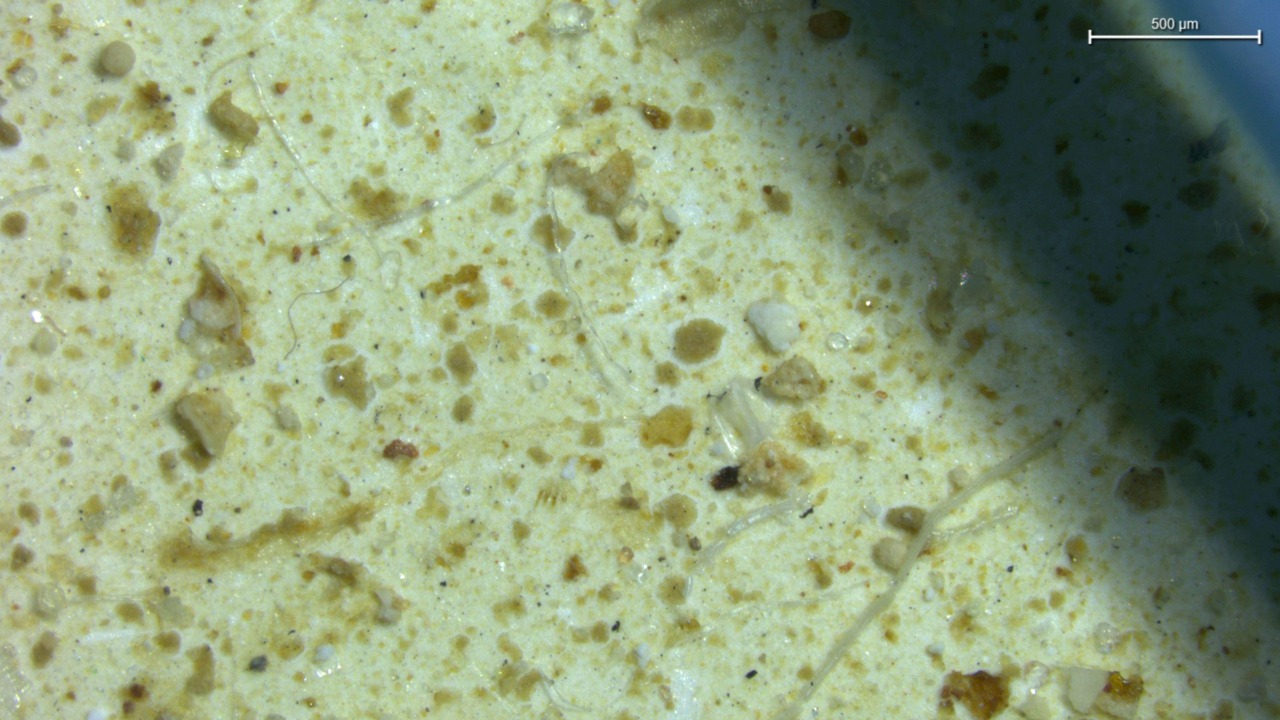microplastic_fragment: (707, 378, 773, 461), (175, 392, 237, 457), (746, 300, 801, 354), (663, 206, 681, 227)
